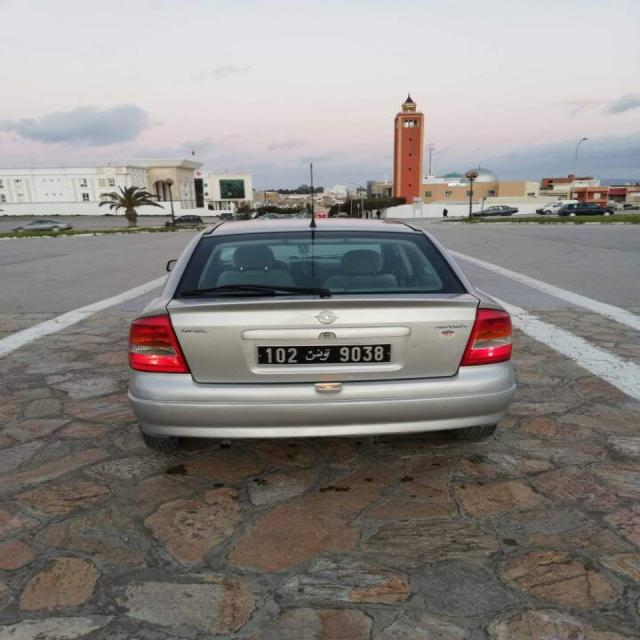LP: (253, 338, 388, 362)
